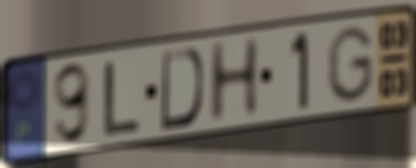1: (288, 30, 311, 113)
9: (49, 60, 94, 148)
D: (158, 45, 206, 134)
G: (324, 23, 376, 106)
H: (206, 33, 263, 129)
L: (101, 59, 143, 139)
